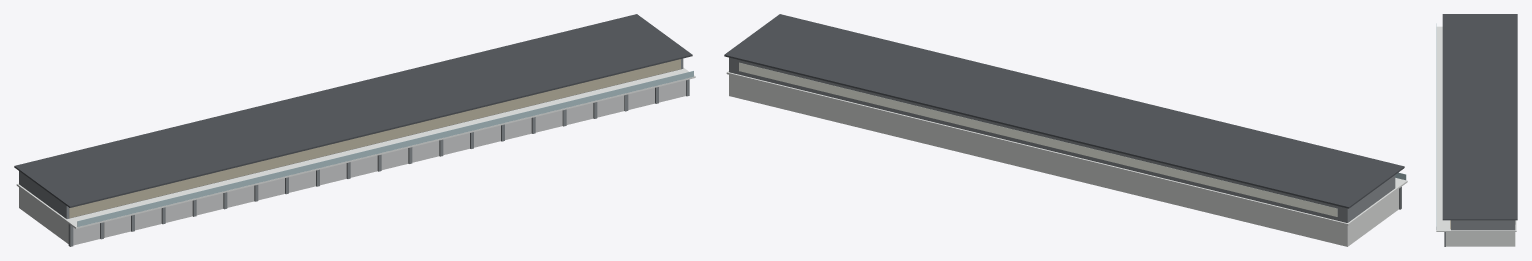
Rendered from sil_national_pits_e.glb.
3 views of the same model, side by side, from view 1: azimuth 30°, elevation 25°; view 2: azimuth 150°, elevation 25°; view 3: azimuth 270°, elevation 25° (orthographic). The views are drawn at different scales.
Visible parts, largest first — view 1: silverstone-national-pits; view 2: silverstone-national-pits; view 3: silverstone-national-pits.
Part boxes in pixels (bbox=[...]): silverstone-national-pits: bbox=[14, 14, 695, 246]; silverstone-national-pits: bbox=[724, 14, 1407, 246]; silverstone-national-pits: bbox=[1436, 14, 1517, 246].
Size of the model in its own units: 124 by 7.9 by 20.7.
